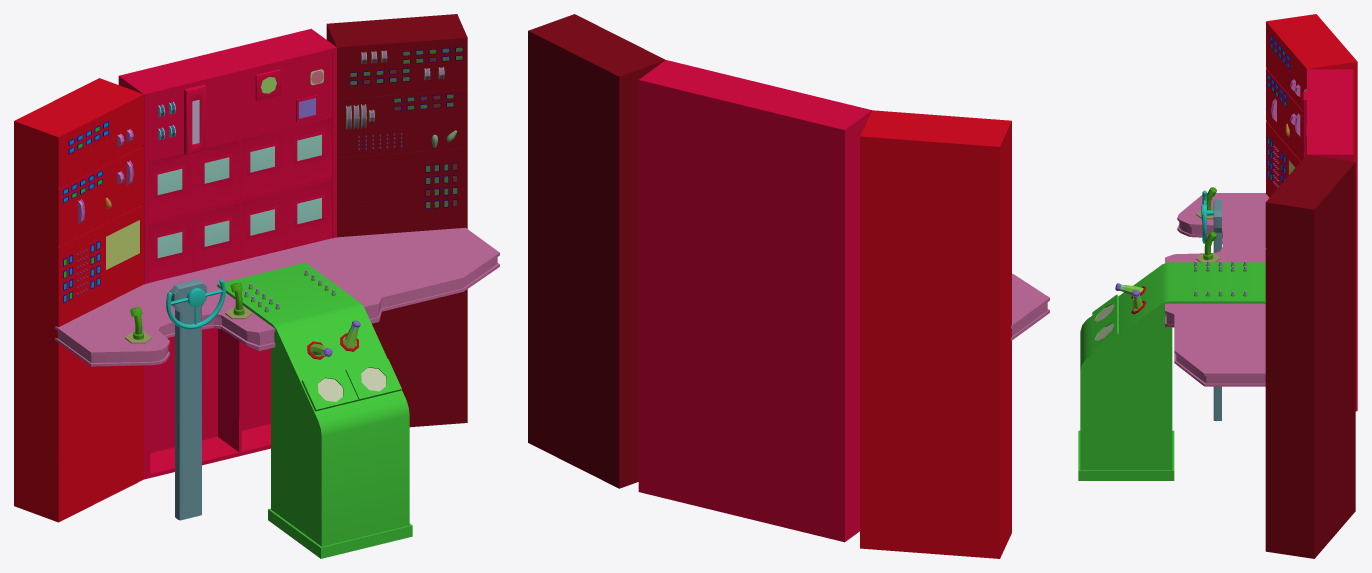
File: command_panel.fbx
3 renders of one model, left to right at view 1: azimuth 30°, elevation 25°; view 2: azimuth 150°, elevation 25°; view 3: azimuth 270°, elevation 25°, orthographic. The views are drawn at different scales.
Parts seen in each view (by area): view 1: Cylinder.012; view 2: Cylinder.012; view 3: Cylinder.012.
Part boxes in pixels (box(x1,y1,x2,y2)): Cylinder.012: box(14, 14, 499, 558); Cylinder.012: box(528, 14, 1049, 558); Cylinder.012: box(1078, 14, 1357, 558).
Size of the model in its own units: 300 by 250 by 181.
